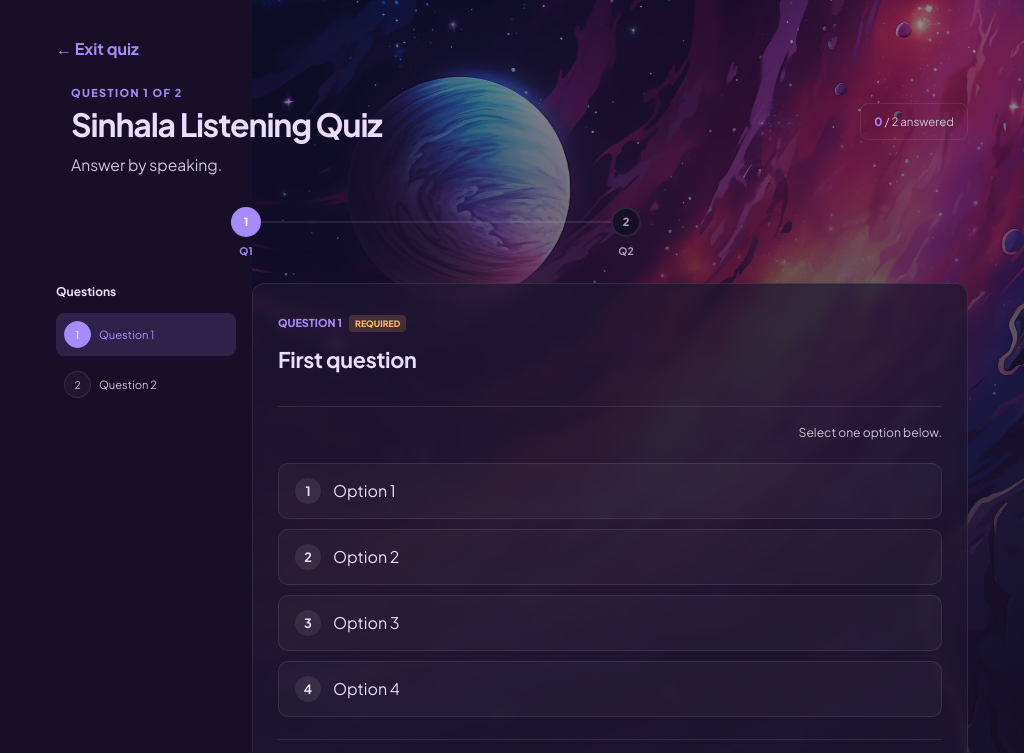
Test: the same journey without voice › keeps the next button disabled until the question is answered
Expected: the heading "First question" is shown, [278,346,416,373]
Click the button "1 Option 1" at (364, 491), box [278,463,942,519]
(page scrolled)
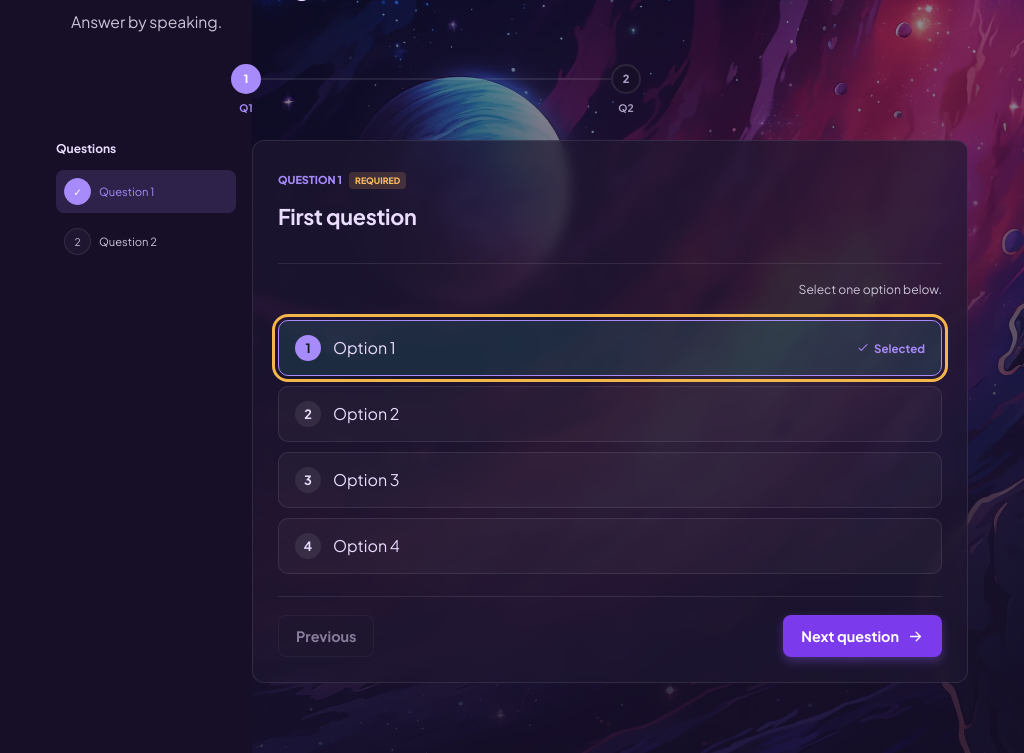
Expected: the button "Next question" is enabled, [783,615,942,657]
